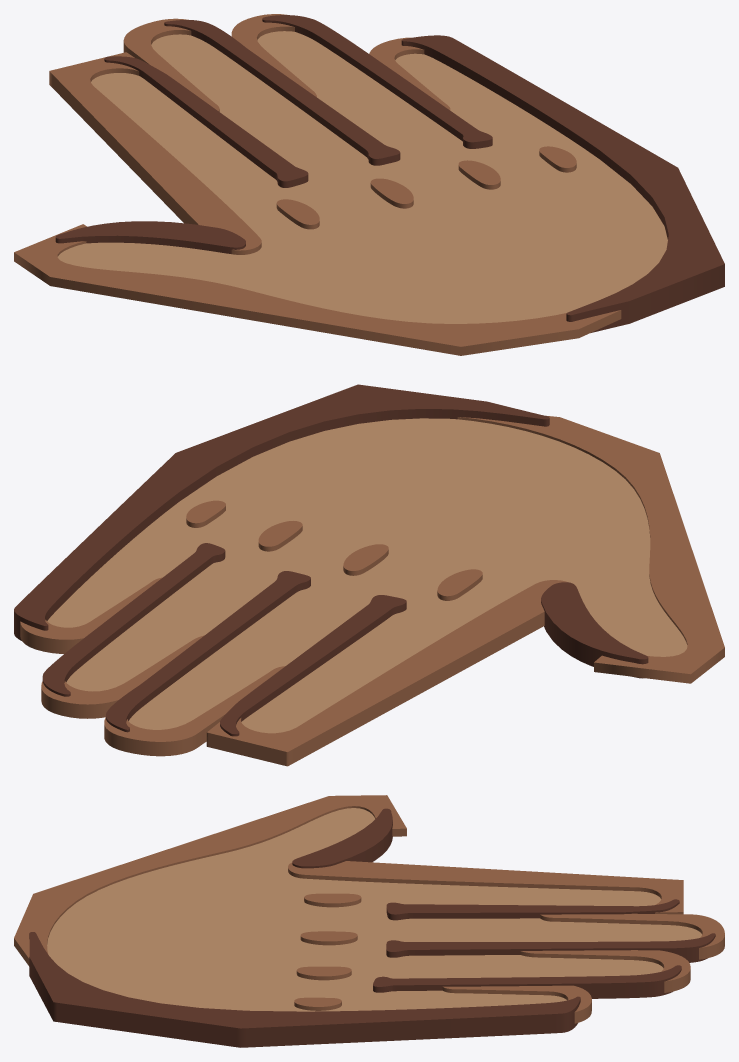
File: emoji_u1f91a_1f3fd.glb
3 views of the same model, one above another, from view 1: azimuth 30°, elevation 25°; view 2: azimuth 150°, elevation 25°; view 3: azimuth 270°, elevation 25° (orthographic). The views are drawn at different scales.
Visible parts, largest first — view 1: emoji_u1f91a_1f3fd; view 2: emoji_u1f91a_1f3fd; view 3: emoji_u1f91a_1f3fd.
Part boxes in pixels (<box>): emoji_u1f91a_1f3fd: <box>14,14,724,355</box>; emoji_u1f91a_1f3fd: <box>14,384,724,766</box>; emoji_u1f91a_1f3fd: <box>14,795,724,1047</box>.
Size of the model in its own units: 0.0266 by 0.001 by 0.0334.
